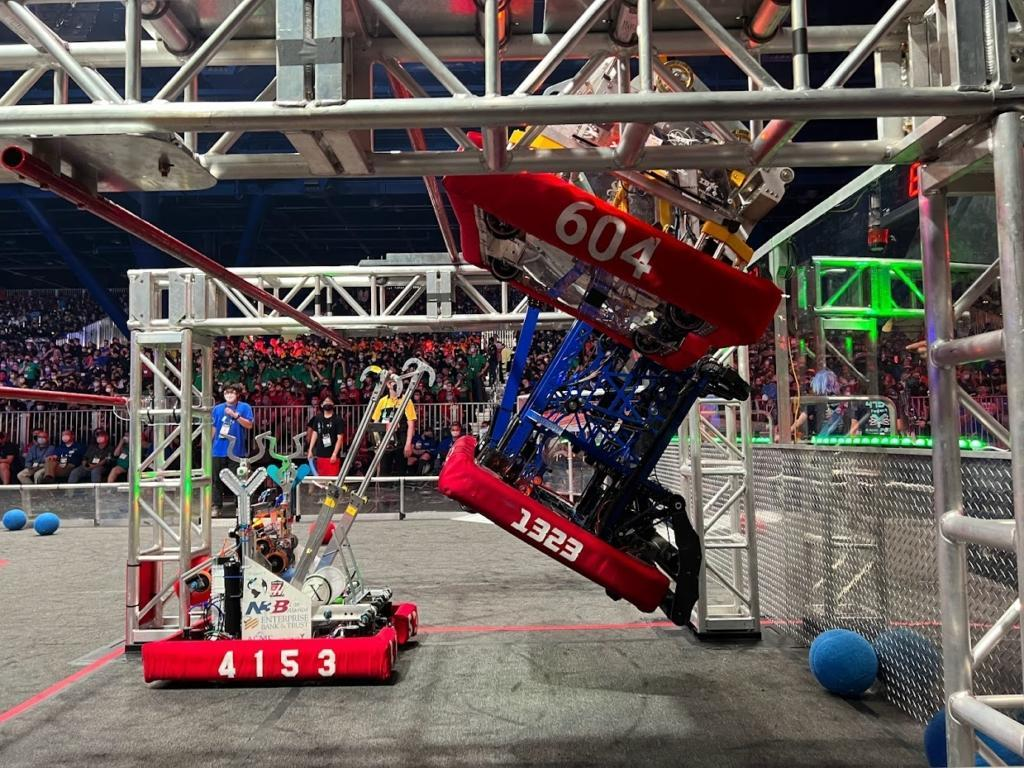robot: (433, 7, 788, 381), (134, 336, 440, 700), (429, 293, 707, 639)
